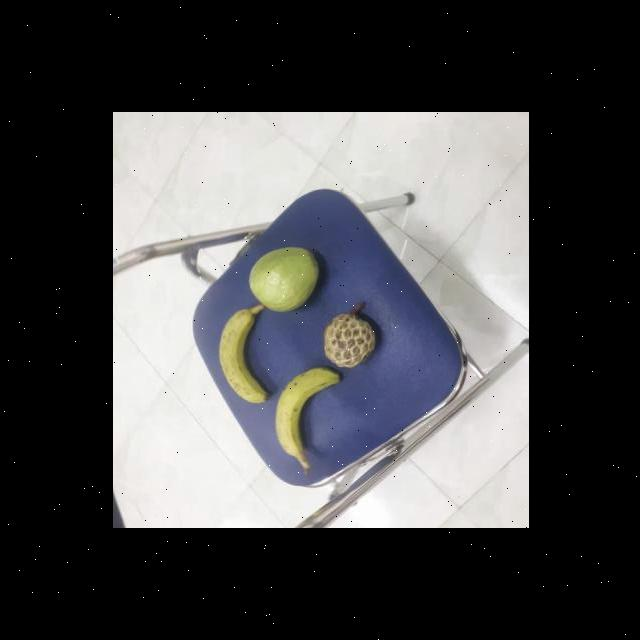Sakya fruit: (322, 302, 376, 367)
banana: (273, 368, 338, 456), (220, 302, 272, 402)
guava: (248, 244, 319, 314)
